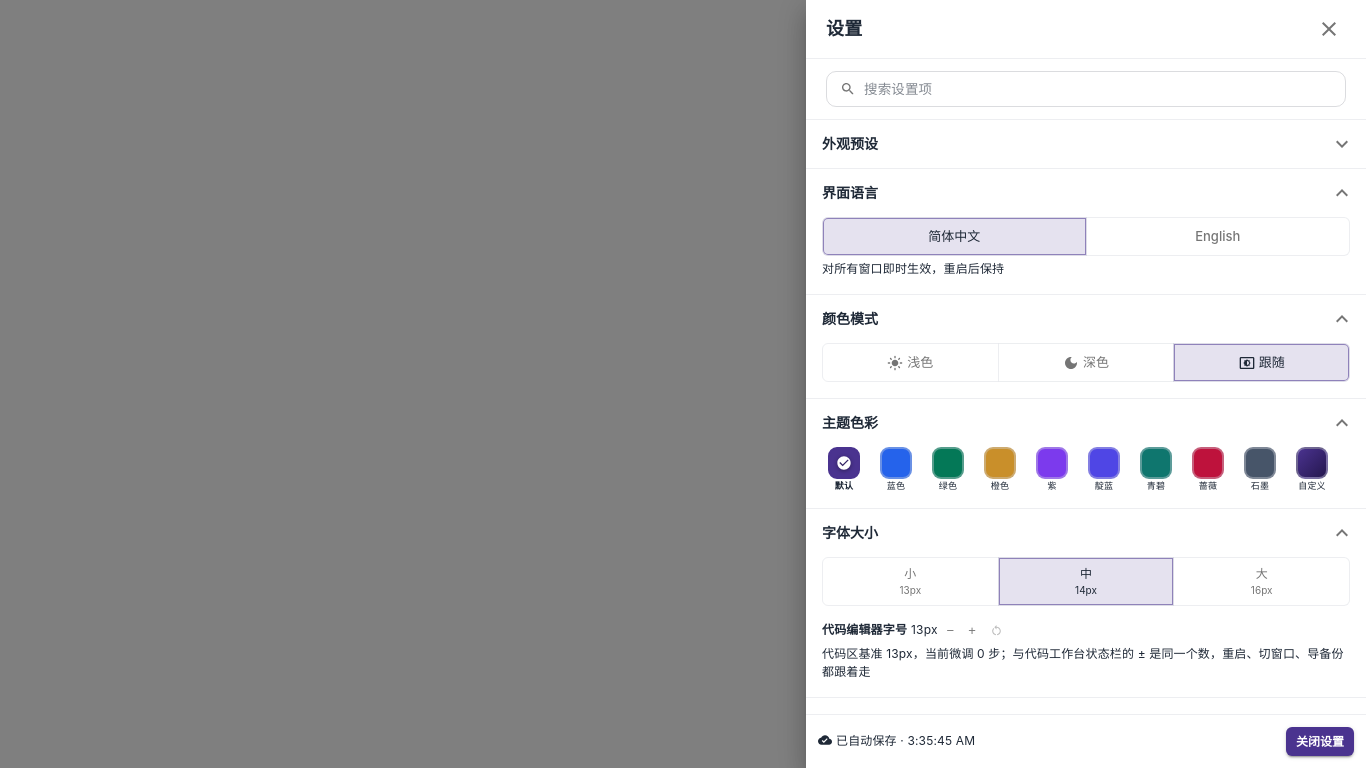
Test: 外观预设面板 · 卡片配色预览 › 每套预设都有配色方块，取值与 preset 注册表同源（可据此判断主题色）
Click the button with test id "appearance-preset-summary" at x=850, y=144, box [806,120,1365,168]
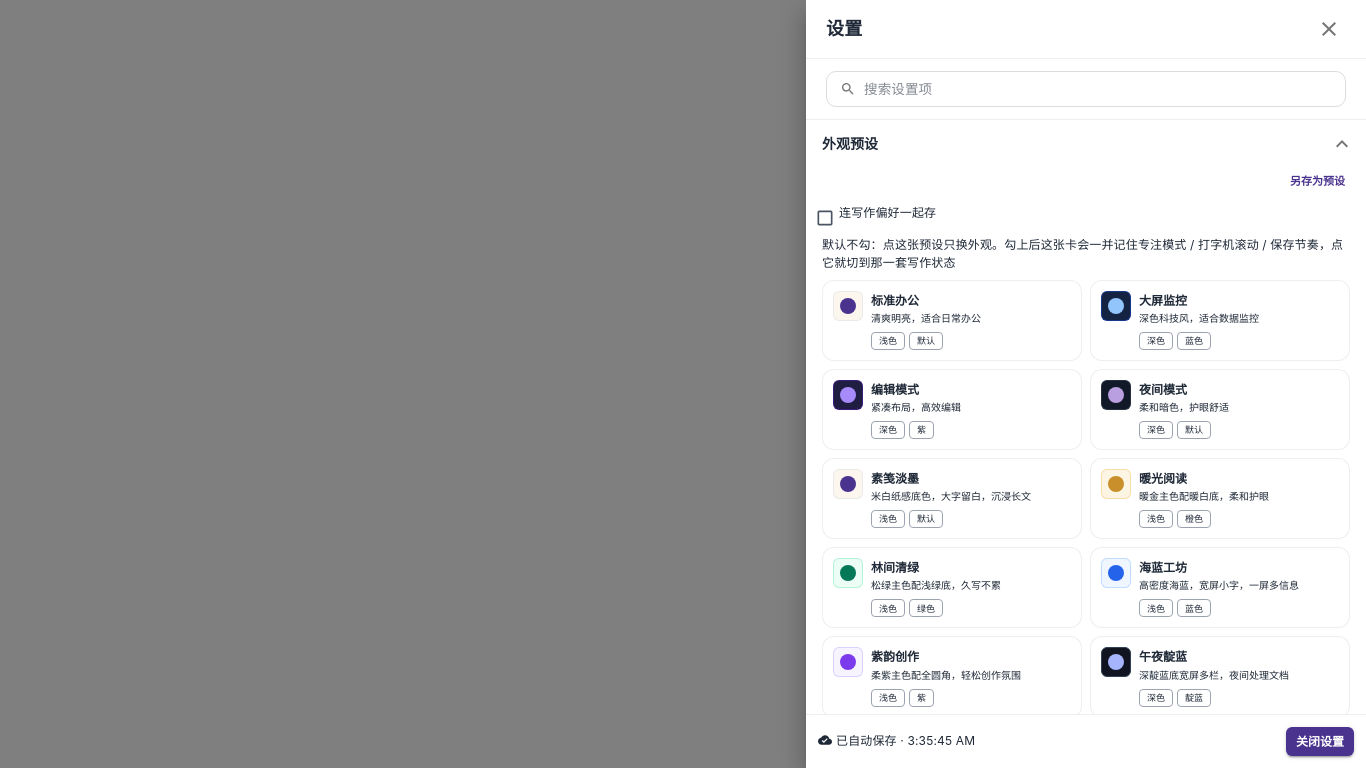
Expected: the button with test id "appearance-preset-summary" is expanded, [806,120,1365,168]
